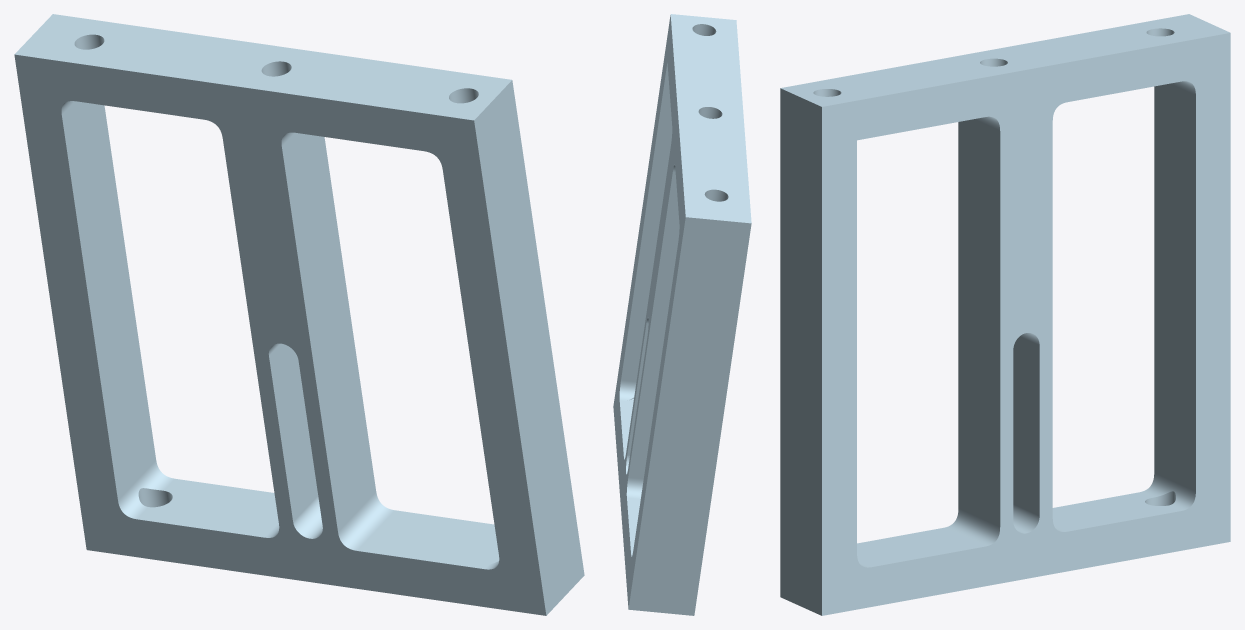
Rendered from Robot_Master Copy 1 - Part 1 (5).gltf.
3 views of the same model, side by side, from view 1: azimuth 30°, elevation 25°; view 2: azimuth 150°, elevation 25°; view 3: azimuth 270°, elevation 25° (orthographic). The views are drawn at different scales.
Parts seen in each view (by area): view 1: Part 1; view 2: Part 1; view 3: Part 1.
Part boxes in pixels (left/top/right/bottom): Part 1: left=14, top=14, right=584, bottom=615; Part 1: left=613, top=14, right=751, bottom=615; Part 1: left=780, top=14, right=1230, bottom=615.
Bounding box in the file's own units: 0.0384 × 0.0552 × 0.0434.
